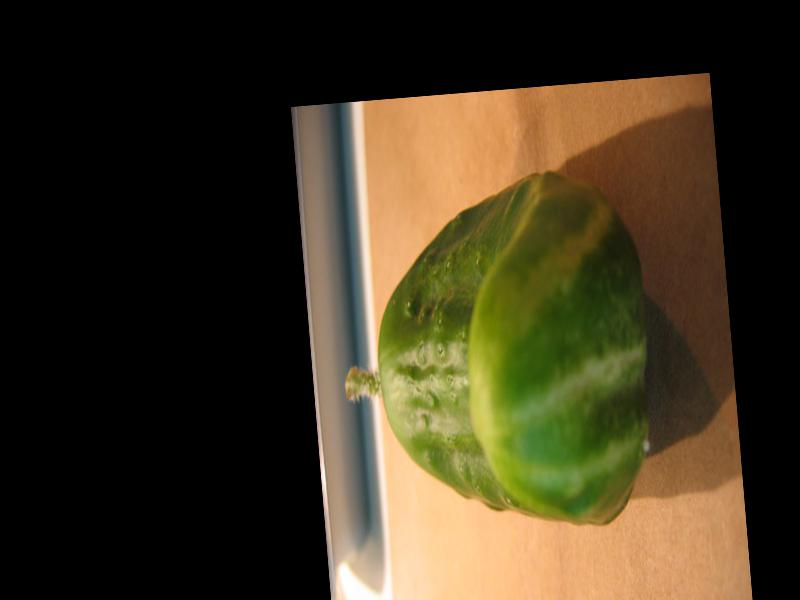Cucumber: (328, 167, 664, 548)
